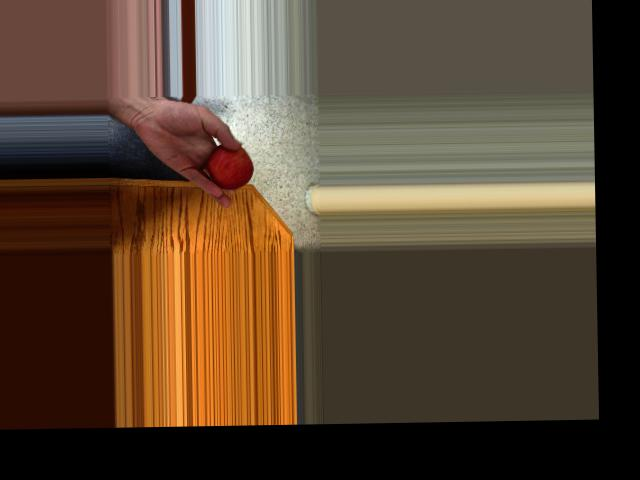apple: (203, 143, 253, 190)
